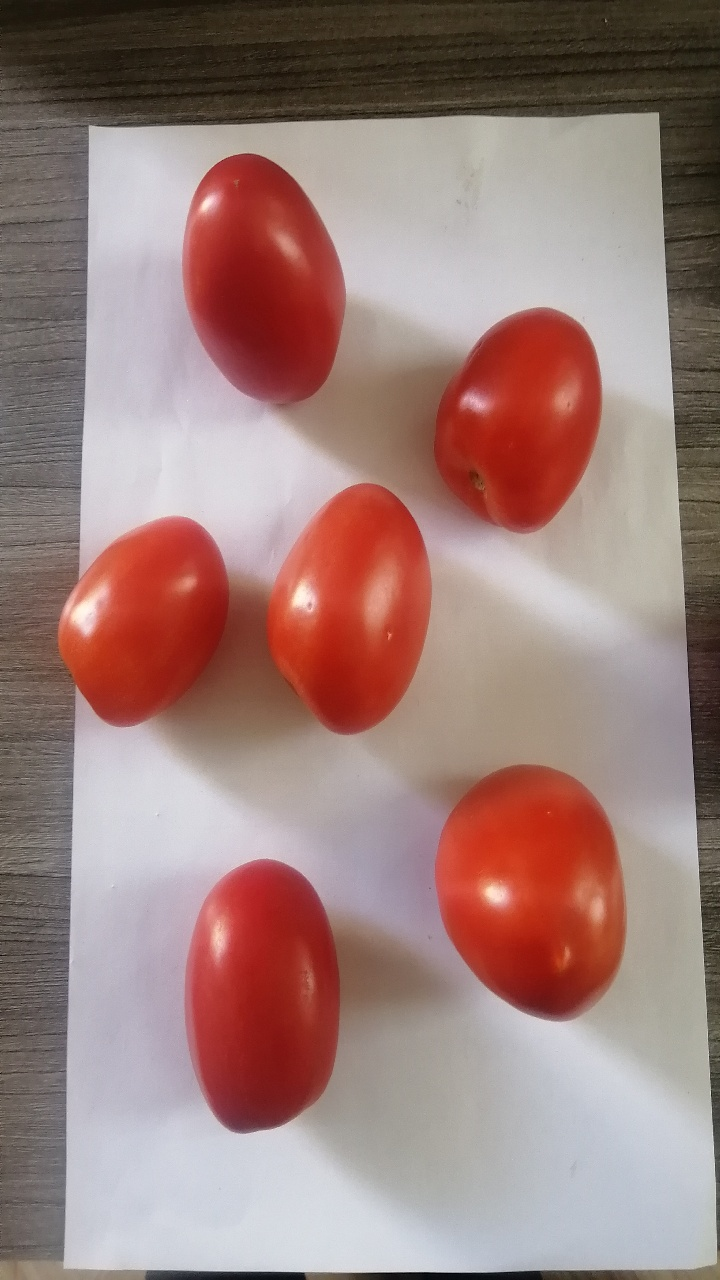tomateRojo: (409, 755, 655, 1028), (172, 128, 375, 437), (174, 846, 366, 1157), (406, 277, 623, 551), (241, 468, 441, 763), (40, 489, 246, 762)
